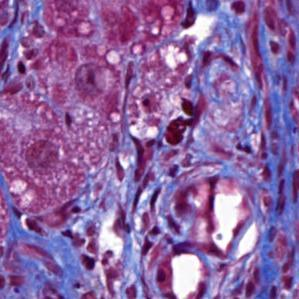inflammation: (59, 219, 102, 272), (162, 95, 202, 148), (179, 0, 249, 30)
